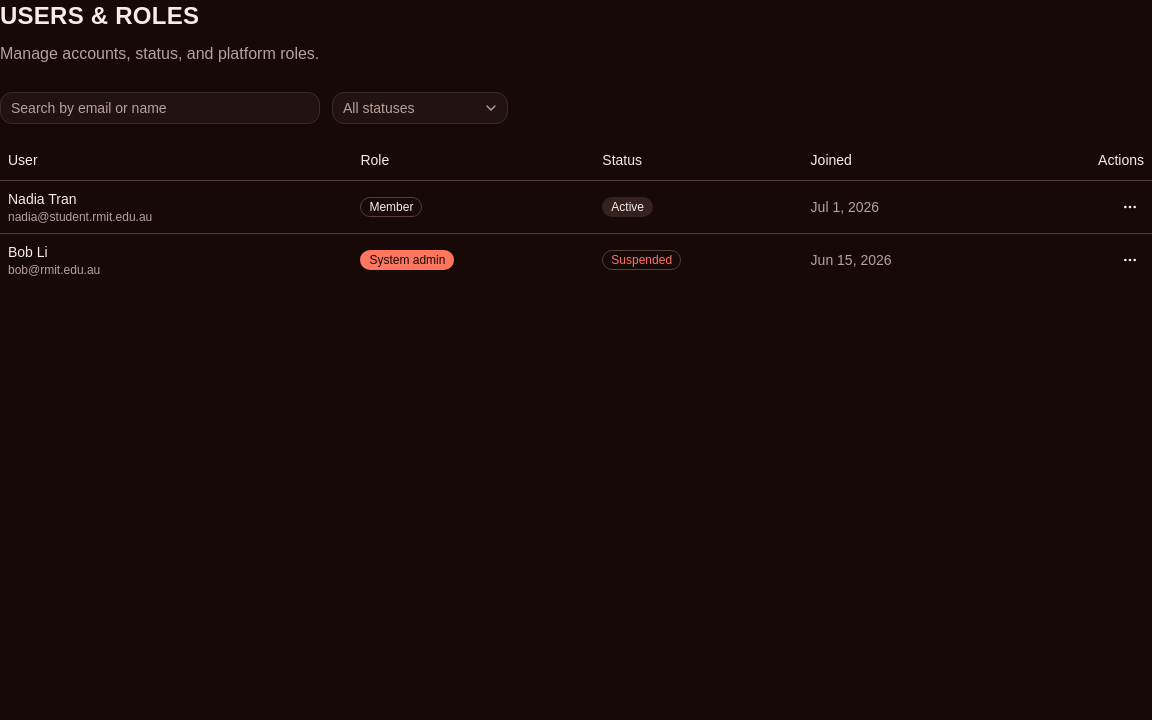
Test case: UsersSection › shows the destructive error inside the suspend dialog on mutation failure
Expected: the text "Nadia Tran" is shown, left=8, top=190, right=76, bottom=206
Step 1. Click the button named "actions for nadia tran" → (1130, 206), box left=1116, top=192, right=1144, bottom=220
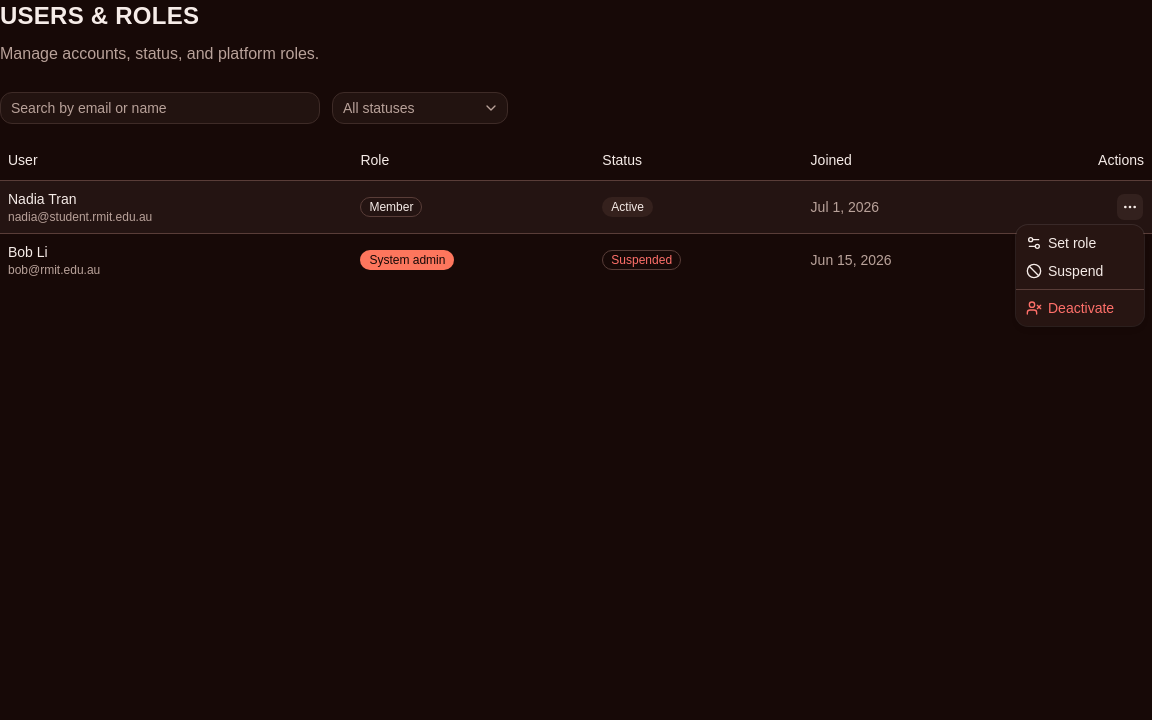
Step 2. Click the menu item "Suspend" → (1065, 271), box left=1026, top=263, right=1103, bottom=279
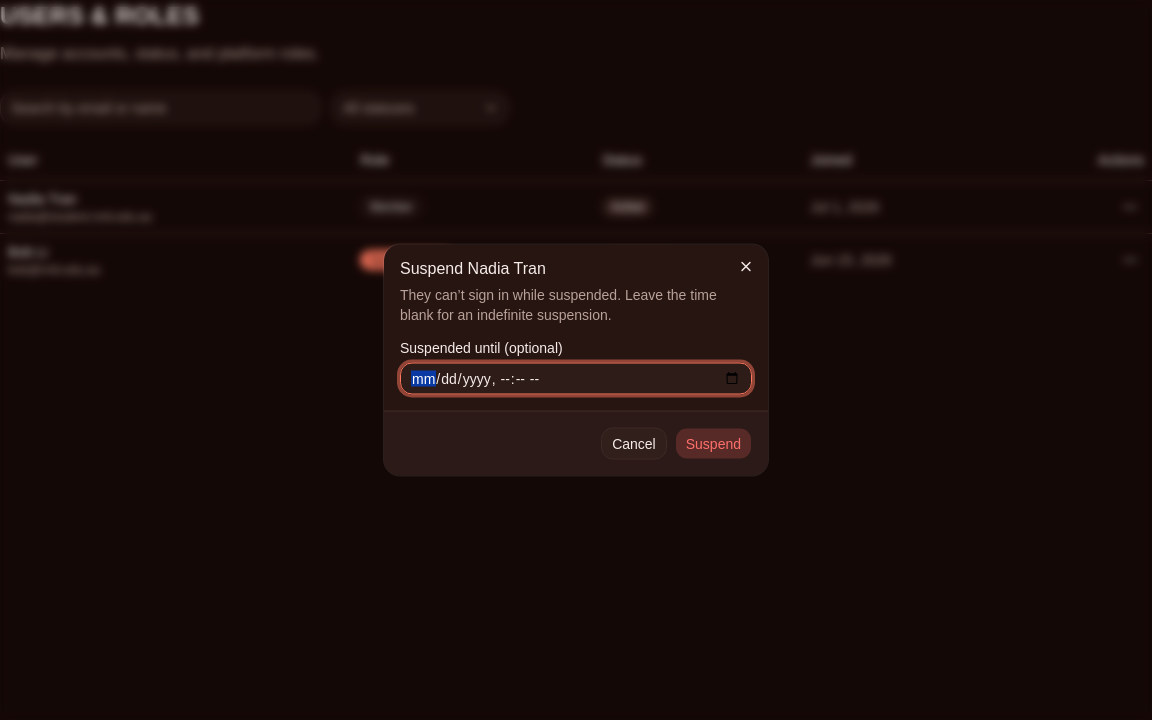
Step 3. Click the button "Suspend" → (713, 444), box left=675, top=428, right=752, bottom=460
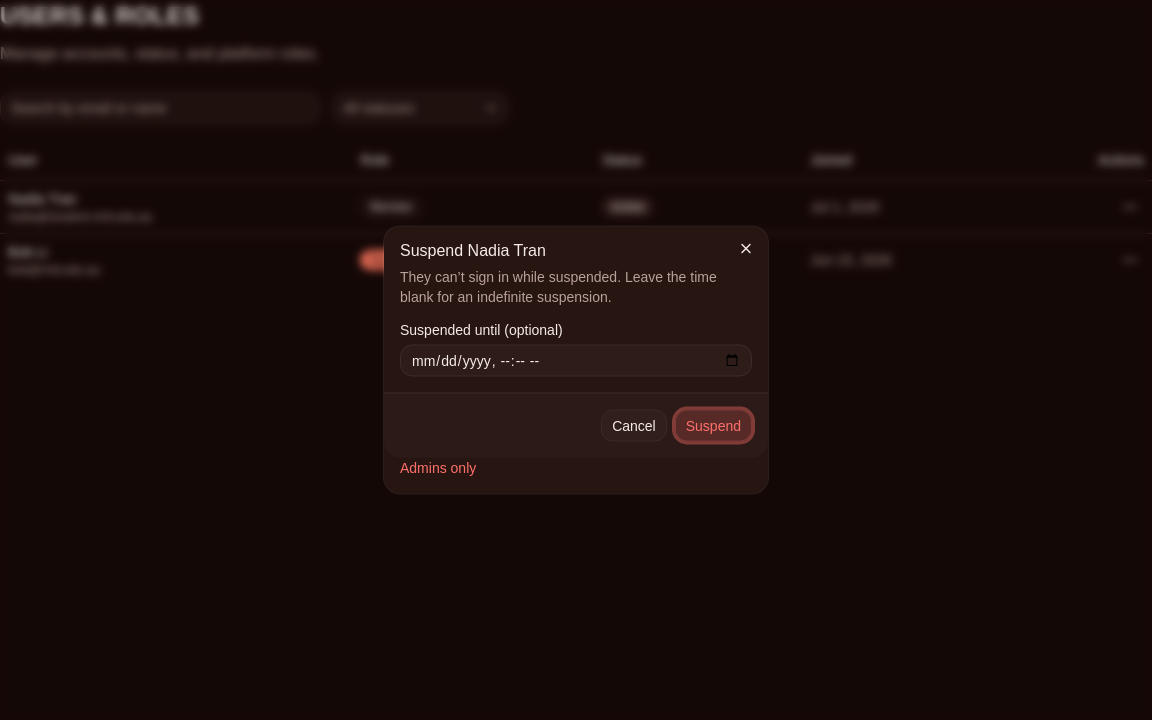
Expected: the message reads "Admins only", left=400, top=460, right=476, bottom=476
